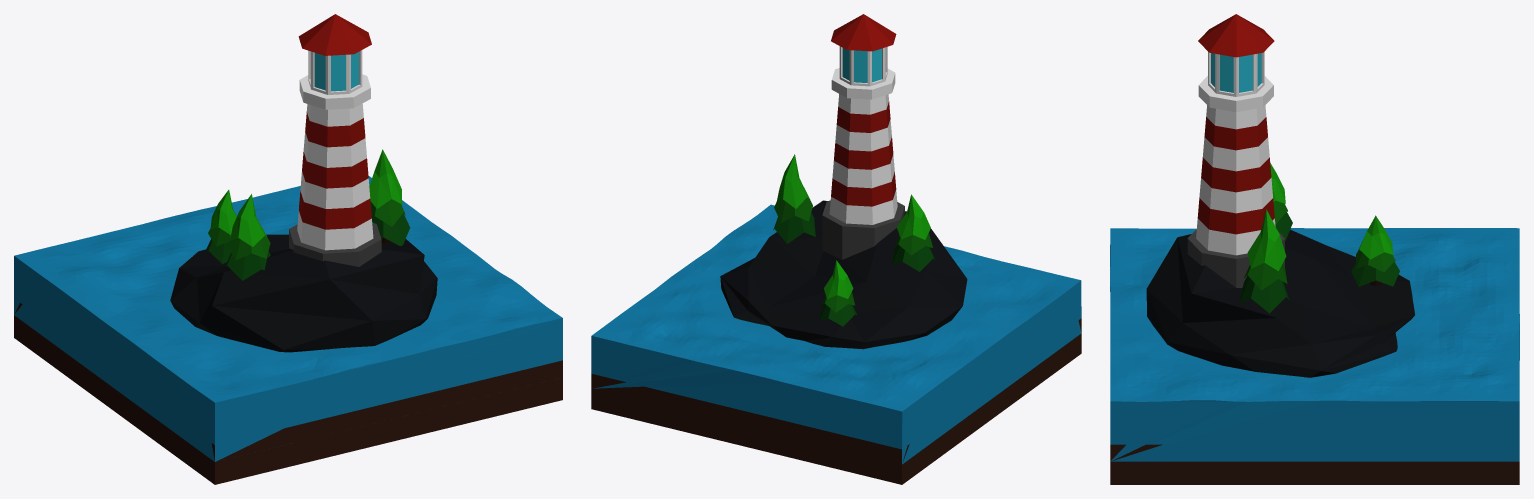
Rendered from house.obj.
3 renders of one model, left to right at view 1: azimuth 30°, elevation 25°; view 2: azimuth 150°, elevation 25°; view 3: azimuth 270°, elevation 25°, orthographic. The views are drawn at different scales.
Parts seen in each view (by area): view 1: house; view 2: house; view 3: house.
Boxes of the visible parts, x1,y1,x2,y2 form: house: (14, 14, 562, 484); house: (591, 14, 1081, 484); house: (1110, 14, 1519, 484).
Size of the model in its own units: 8.41 by 8.79 by 8.4.
